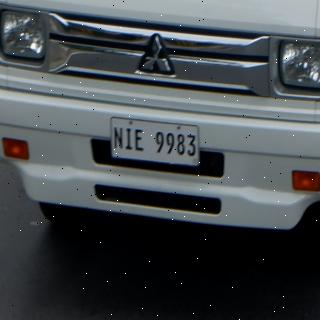license: (112, 119, 200, 168)
